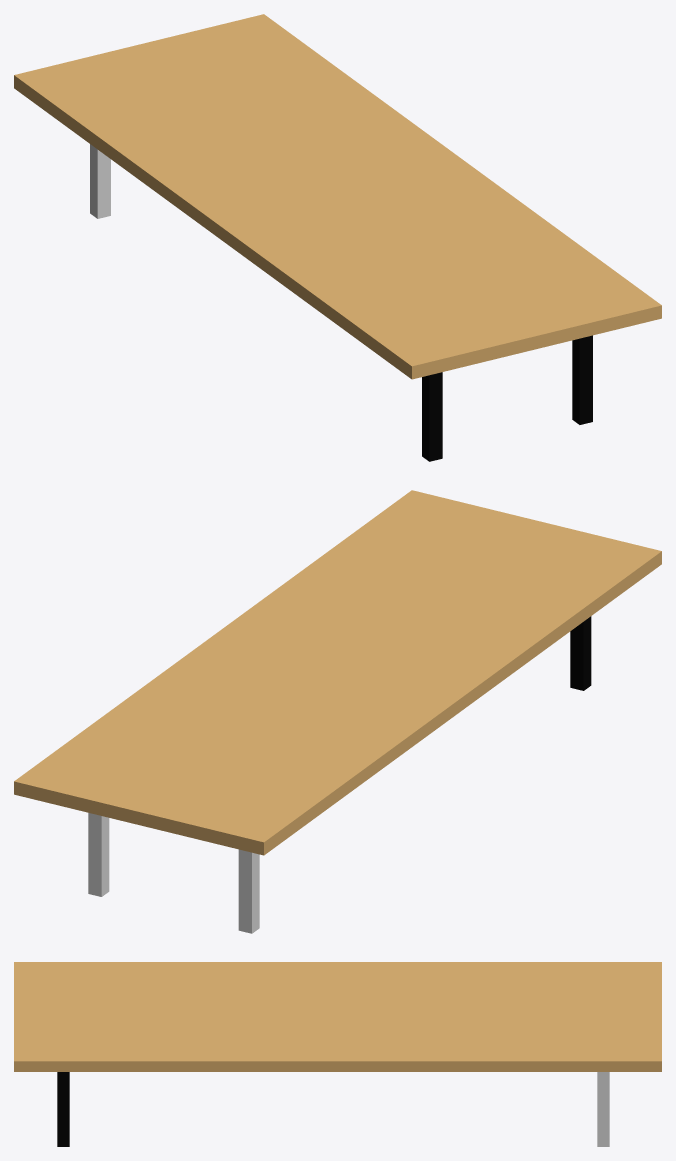
The model's file is long table.glb.
The picture shows the model from 3 angles, top to bottom: view 1: azimuth 30°, elevation 25°; view 2: azimuth 150°, elevation 25°; view 3: azimuth 270°, elevation 25°; orthographic projection. The views are drawn at different scales.
Parts seen in each view (by area): view 1: Cube.007, Cube.002, Cube.001, Cube.003; view 2: Cube.007, Cube.003, Cube.004, Cube.002; view 3: Cube.007, Cube.001, Cube.004.
Part boxes in pixels (bbox=[...]): Cube.007: bbox=[14, 14, 661, 379]; Cube.002: bbox=[422, 372, 442, 461]; Cube.001: bbox=[572, 335, 592, 424]; Cube.003: bbox=[90, 144, 110, 218]; Cube.007: bbox=[14, 490, 661, 855]; Cube.003: bbox=[238, 849, 259, 933]; Cube.004: bbox=[88, 813, 109, 896]; Cube.002: bbox=[570, 616, 591, 690]; Cube.007: bbox=[14, 962, 661, 1071]; Cube.001: bbox=[57, 1072, 69, 1146]; Cube.004: bbox=[597, 1072, 609, 1146].
Size of the model in its own units: 4.99 by 2.4 by 13.75.
